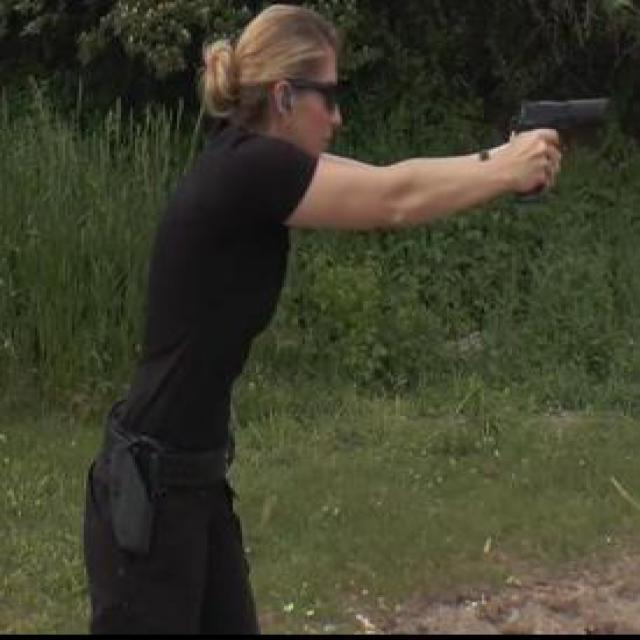gun: (507, 93, 610, 192)
